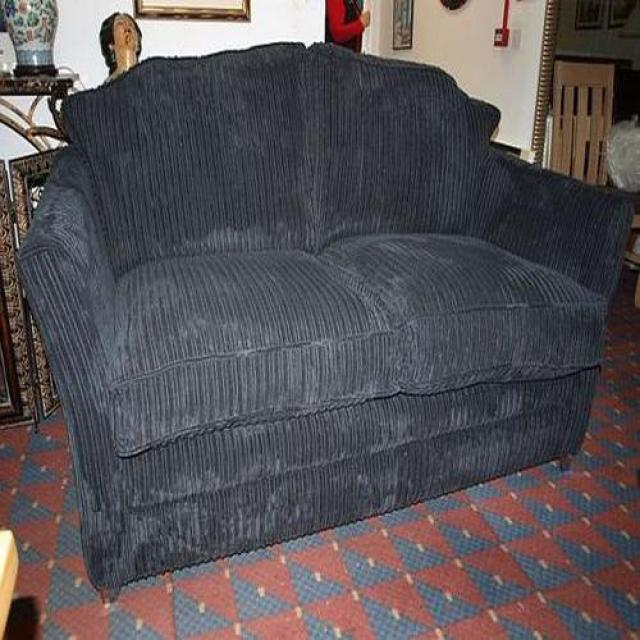sofa: (18, 44, 640, 594)
